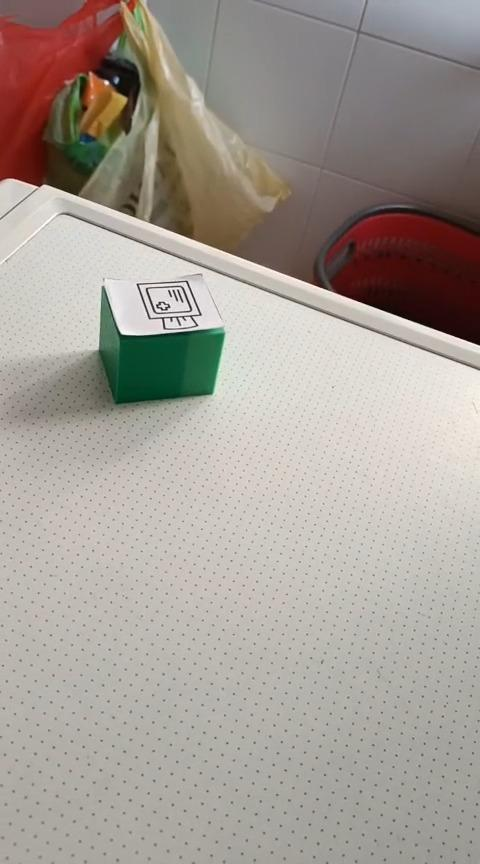Gauze: (97, 271, 226, 404)
